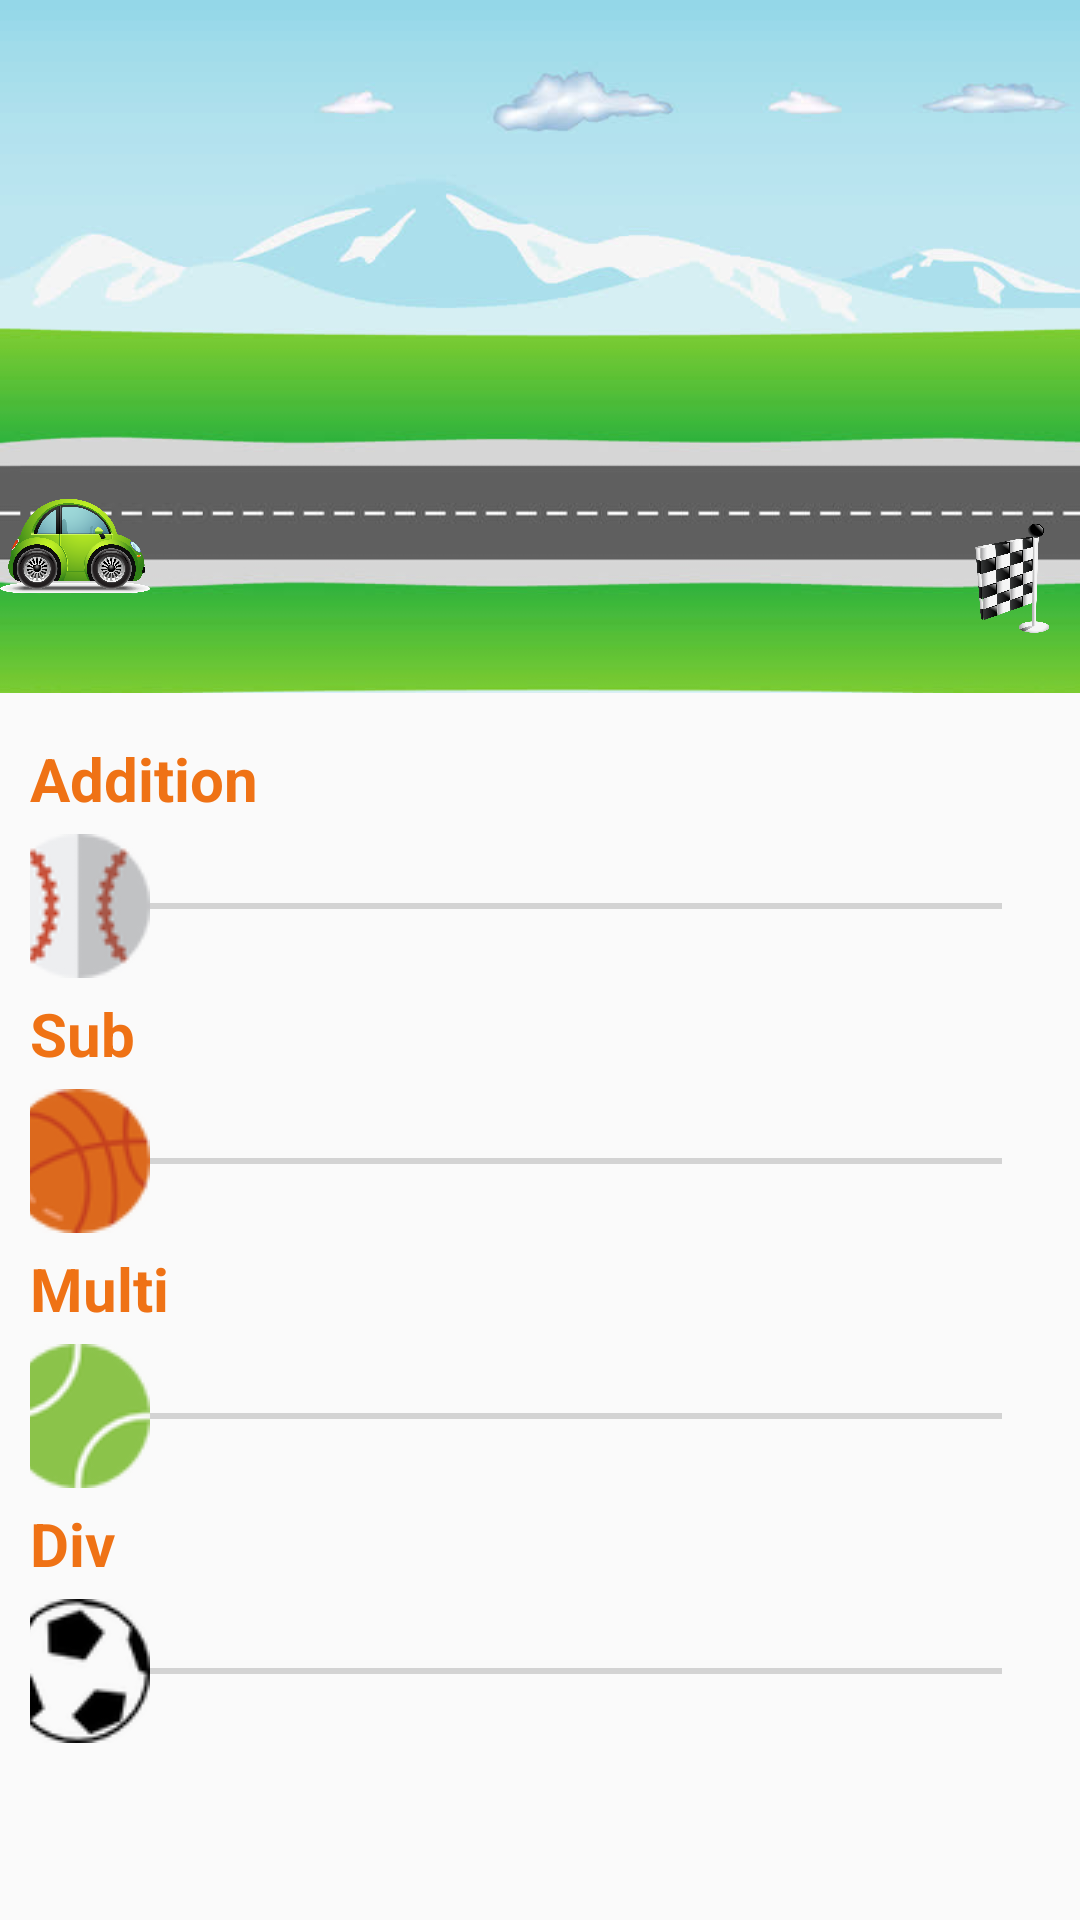

Icons on this 1080 × 1920 Android screen, each with the point to tap as (x,y):
carr: (75,546)
flag: (1018,577)
